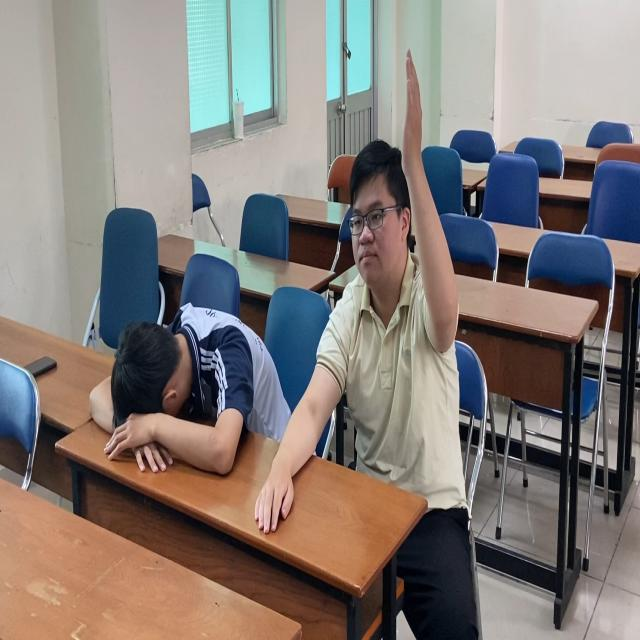raise_hand: (328, 44, 468, 561)
sleep: (87, 301, 269, 479)
